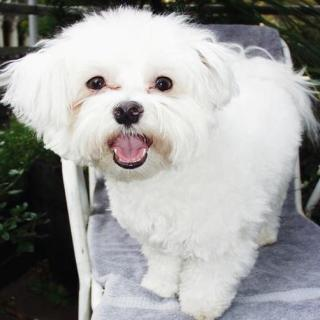dog: (0, 6, 252, 185)
nose: (109, 99, 144, 130)
